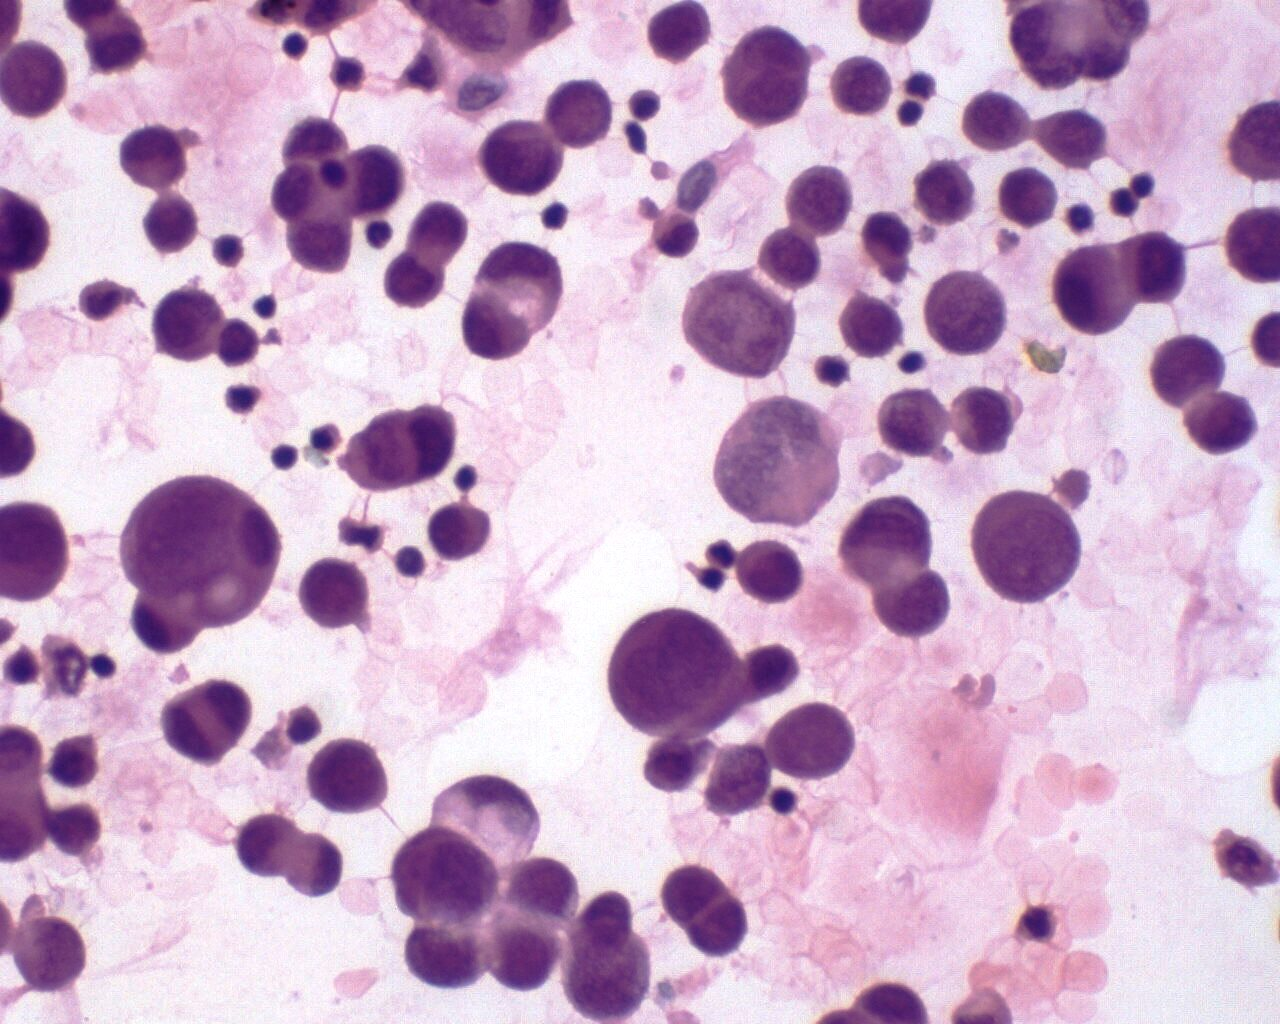ab: (608, 607, 745, 737), (971, 488, 1085, 612), (390, 824, 501, 924), (717, 23, 813, 130), (657, 853, 747, 965), (920, 267, 1014, 354), (767, 698, 860, 784), (479, 116, 563, 199), (307, 739, 389, 817), (1149, 330, 1228, 408), (869, 571, 953, 643), (783, 158, 854, 238), (153, 282, 222, 364), (298, 556, 372, 630), (1038, 103, 1110, 174), (540, 77, 611, 148), (737, 535, 805, 608), (838, 288, 908, 357), (960, 83, 1030, 152), (1124, 230, 1188, 305), (908, 158, 976, 228), (950, 387, 1018, 457), (755, 225, 820, 292), (140, 187, 204, 254), (830, 54, 893, 120), (647, 1, 711, 65)
histo: (119, 473, 281, 631)
lymph: (768, 786, 804, 822), (452, 460, 485, 496), (281, 31, 313, 63), (249, 292, 282, 322)
neutro: (360, 216, 394, 251)
